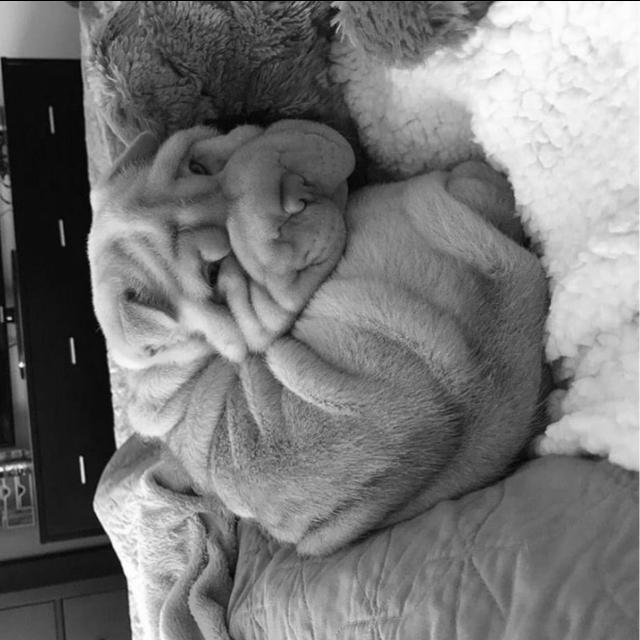Dogs: (85, 114, 552, 556)
